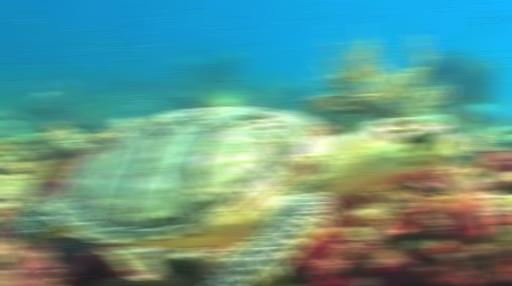Fish: (6, 106, 461, 285)
